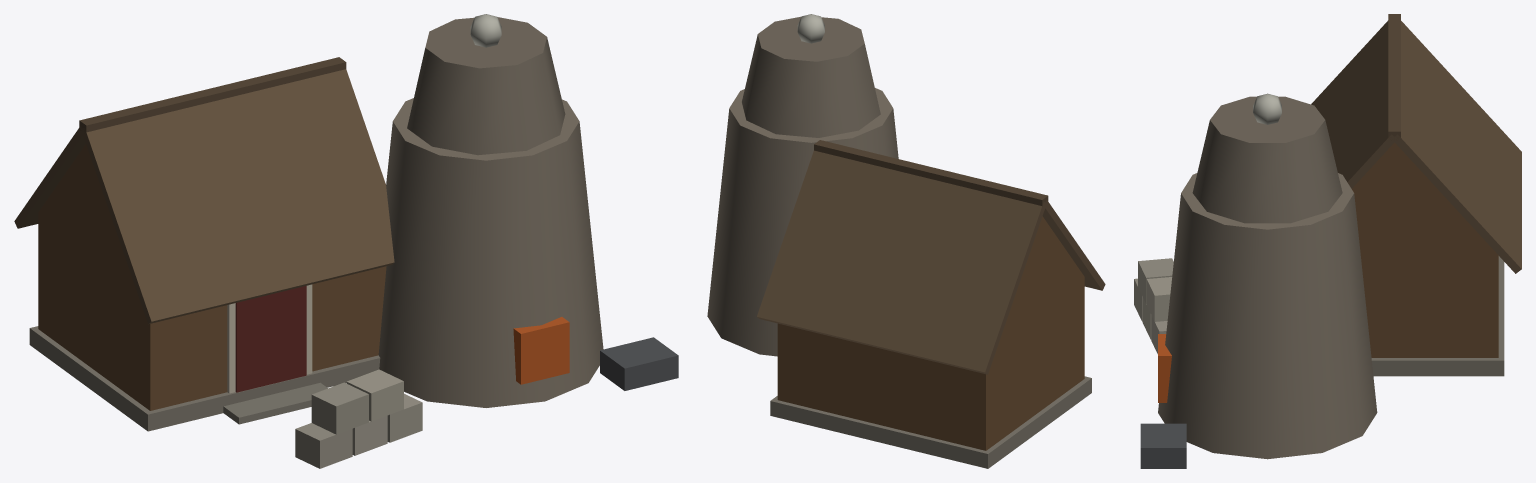
Rendered from procedural_smelter@3.glb.
The picture shows the model from 3 angles, left to right: view 1: azimuth 30°, elevation 25°; view 2: azimuth 150°, elevation 25°; view 3: azimuth 270°, elevation 25°; orthographic projection. The views are drawn at different scales.
Visible parts, largest first — view 1: part_0, part_4; view 2: part_0, part_4; view 3: part_0, part_4.
Boxes of the visible parts, x1,y1,x2,y2 form: part_0: (14, 17, 678, 468); part_4: (470, 14, 501, 47); part_0: (707, 16, 1105, 468); part_4: (797, 14, 824, 43); part_0: (1134, 14, 1521, 468); part_4: (1253, 93, 1281, 124).
Bounding box in the file's own units: 8.51 × 6.09 × 6.72.
